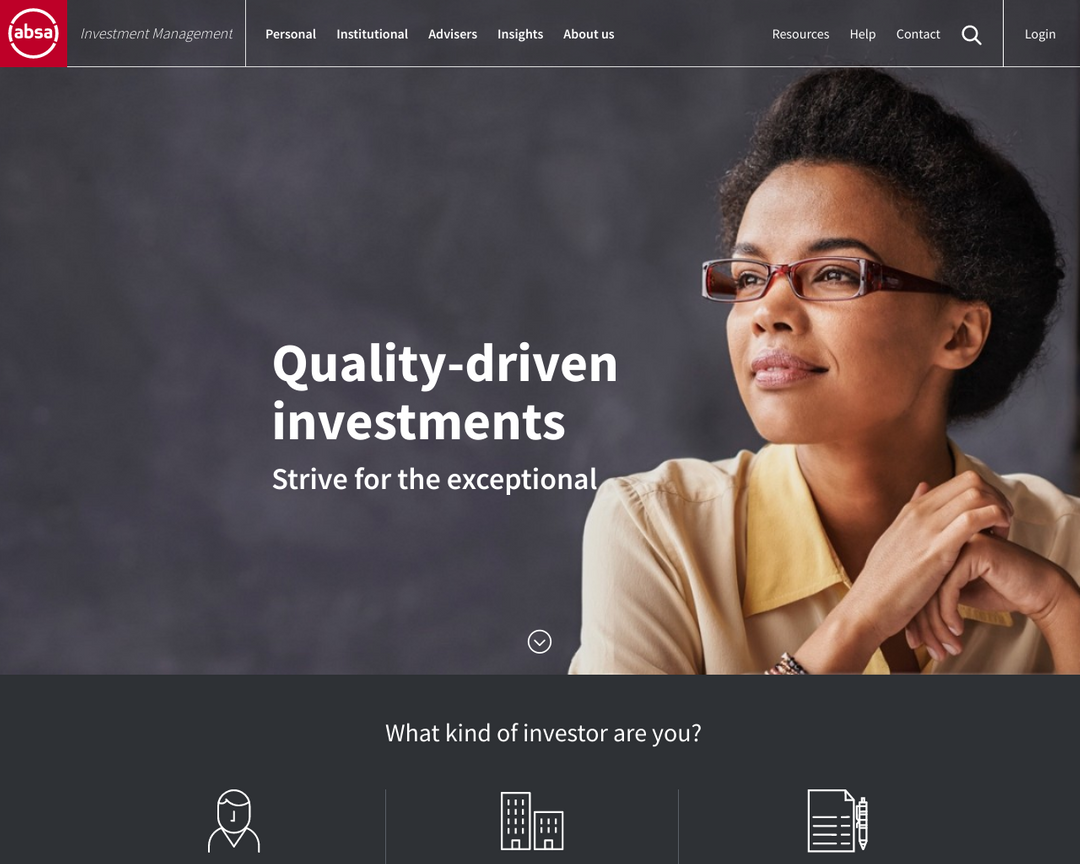ABSA: (5, 6, 62, 60)
